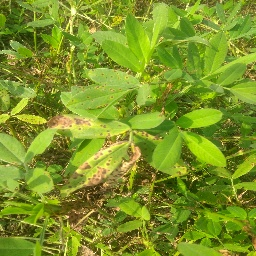GroundNut_Leaf: (60, 141, 129, 198), (51, 116, 129, 137), (182, 131, 226, 167), (67, 89, 127, 111), (124, 12, 150, 58), (150, 133, 180, 172), (205, 30, 227, 75), (177, 108, 224, 129), (87, 67, 138, 86), (1, 128, 26, 165), (215, 61, 247, 87), (26, 168, 55, 194), (119, 199, 151, 222), (130, 110, 166, 130), (1, 237, 39, 255)
